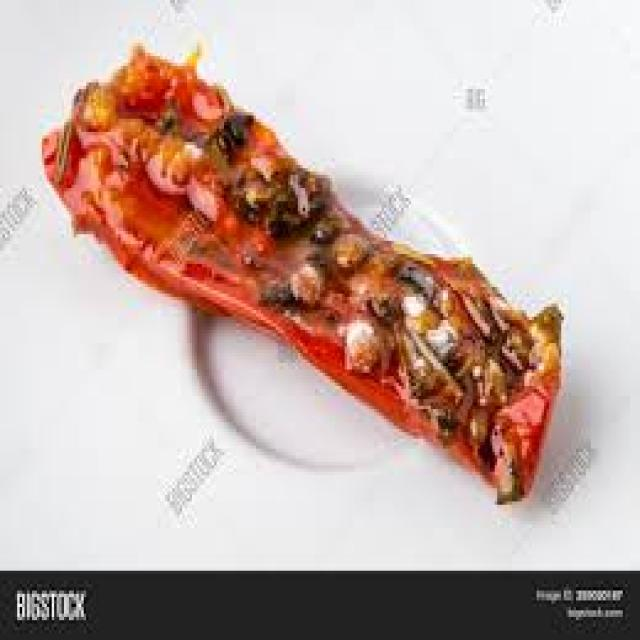biodegradable: (39, 43, 559, 498)
